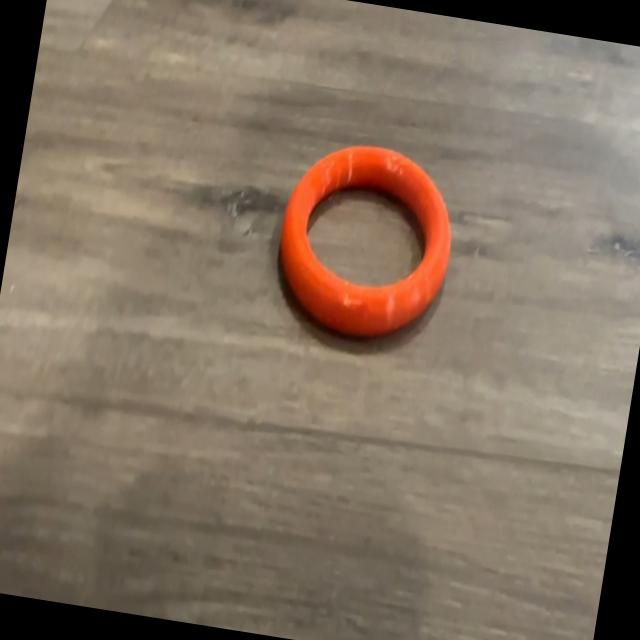note: (268, 126, 466, 352)
